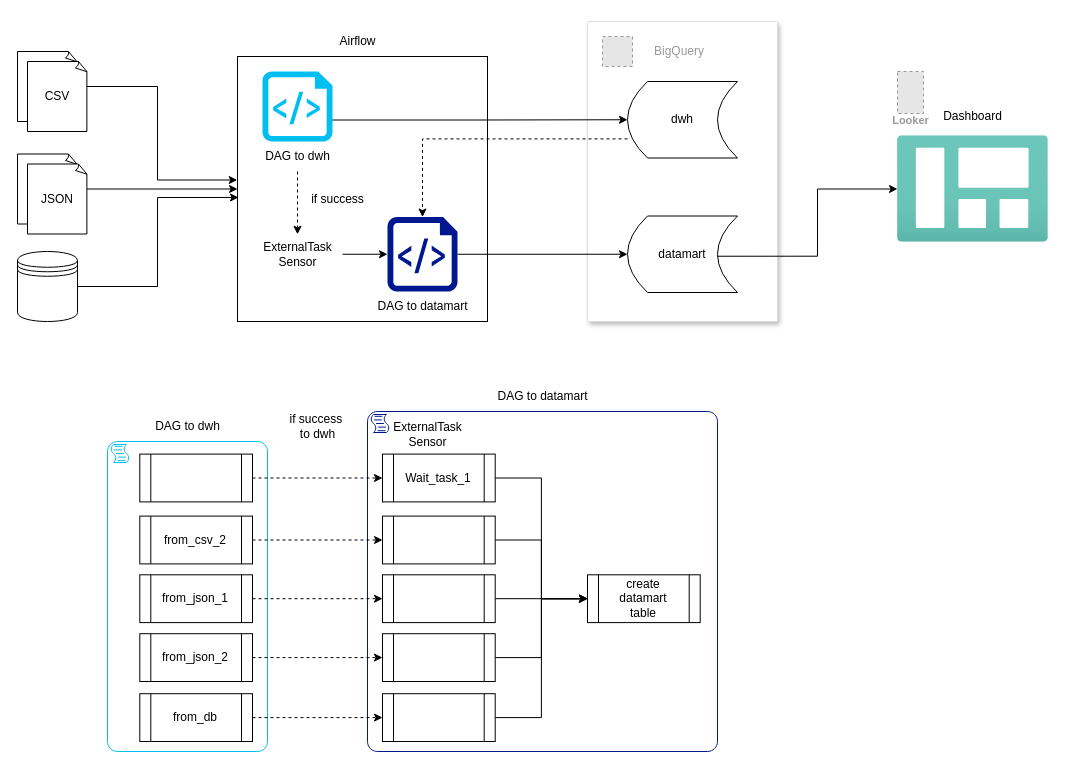
This 1066x769 diagram has some shape labels left out. Grey dashed boxes stand in for pictures. The centre of each missing label's shape, as x and y in pixels:
"from_csv_1" belongs at (195,477).
"Postgres" belongs at (47,286).
"Wait_task_2" belongs at (438,539).
"Wait_task_3" belongs at (438,598).
"Wait_task_4" belongs at (438,657).
"Wait_task_5" belongs at (438,717).
